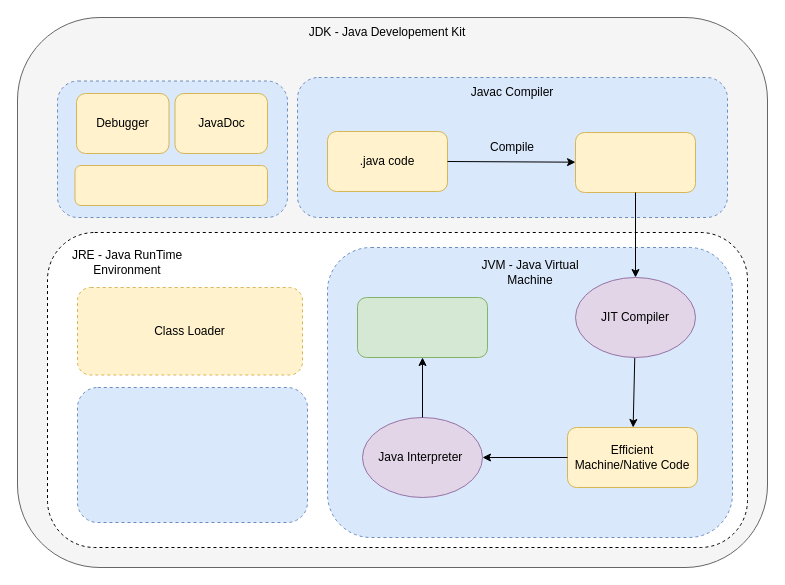
Image size: 785x585. Some labels were removed from this diagram. Here are the shapes that lost their labels. From the top down, the centre of each, then its label:
point (635, 162): .class bytecode
point (171, 185): Other Development Tools
point (422, 327): Execution
point (192, 454): Library Classes
